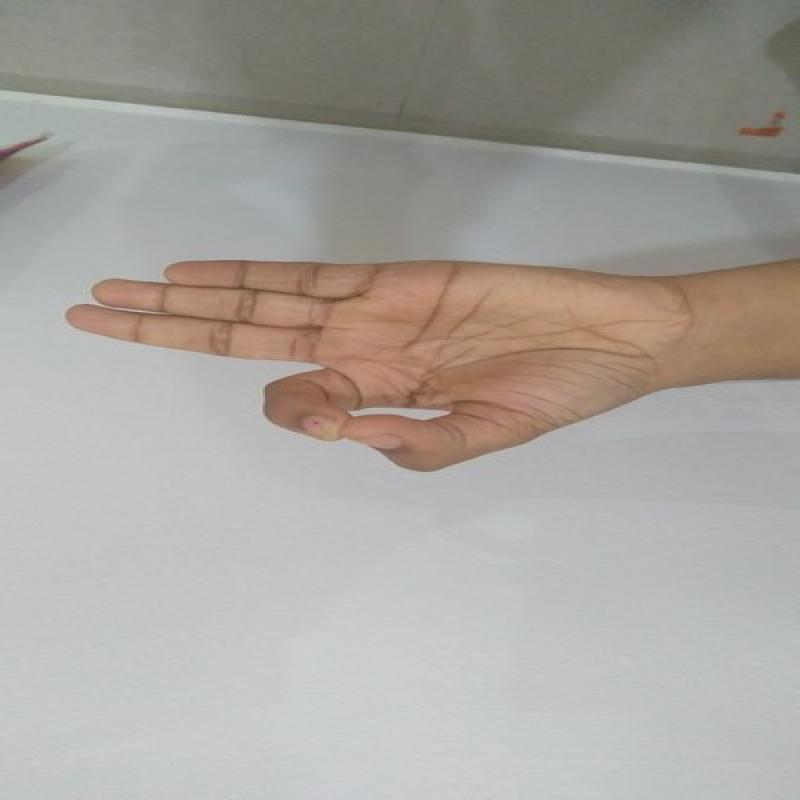Mudraakhyam: (55, 242, 693, 489)
